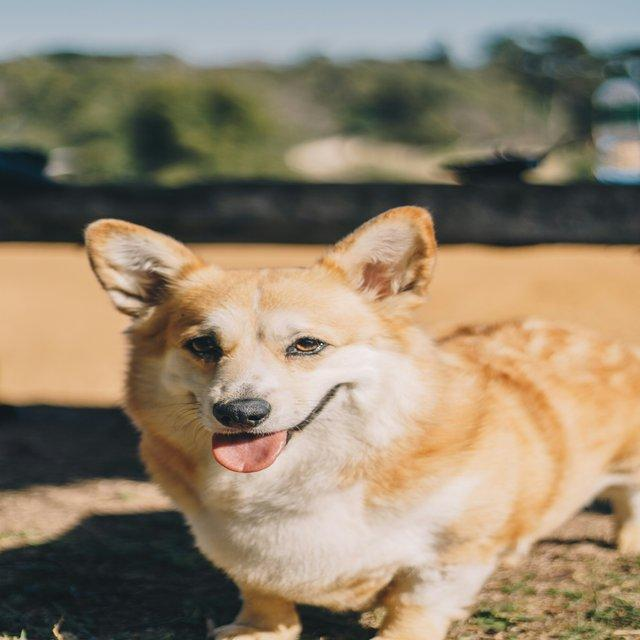corgi: (83, 204, 639, 639)
